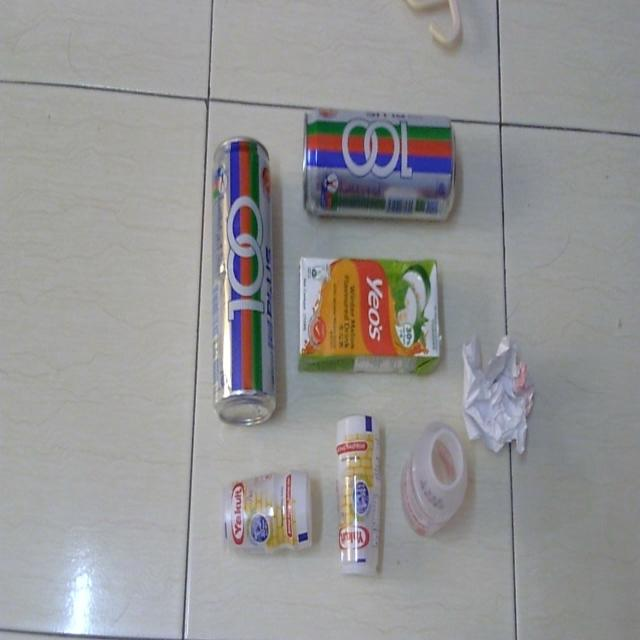metal_laydown_0rotation: (297, 103, 464, 228)
metal_laydown_90rotation: (210, 137, 282, 429)
paperrotation: (462, 329, 540, 452)
plastic_laydown_0rotation: (296, 252, 446, 379), (216, 470, 317, 562)
plastic_laydown_90rotation: (330, 409, 388, 580)
plastic_standrotation: (400, 413, 468, 546)
